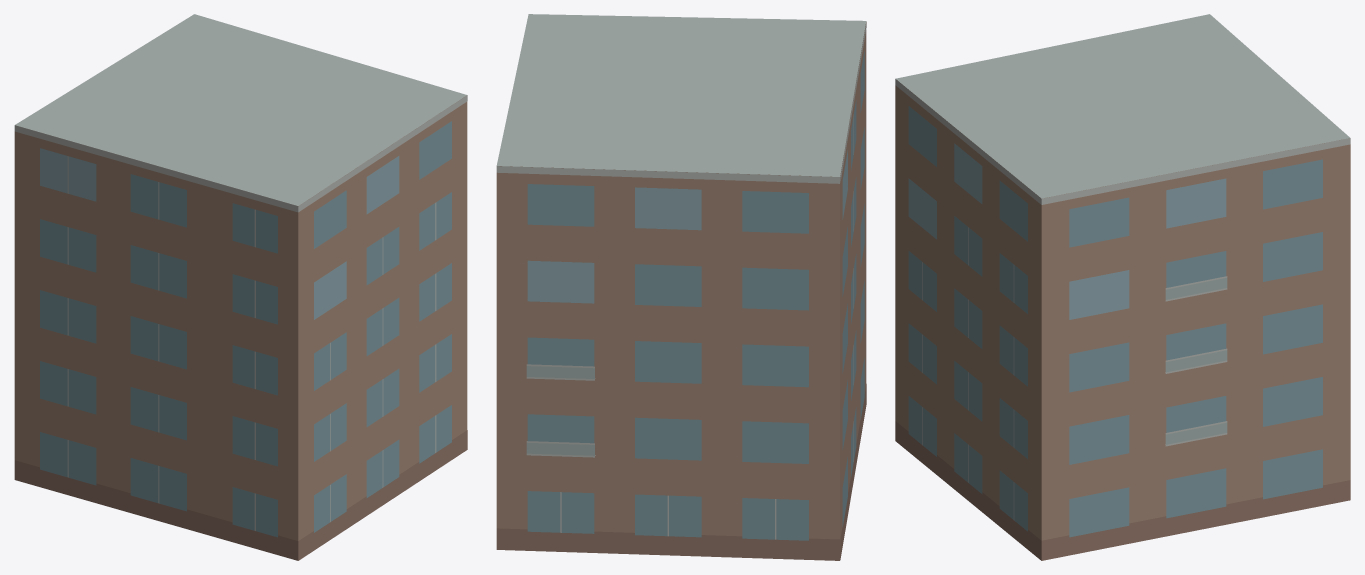
The model's file is survey-upis-32650671.glb.
3 views of the same model, side by side, from view 1: azimuth 30°, elevation 25°; view 2: azimuth 150°, elevation 25°; view 3: azimuth 270°, elevation 25° (orthographic). The views are drawn at different scales.
Parts seen in each view (by area): view 1: survey-upis-32650671.tmp; view 2: survey-upis-32650671.tmp; view 3: survey-upis-32650671.tmp.
Boxes of the visible parts, x1=… form: survey-upis-32650671.tmp: x1=14, y1=14, x2=467, y2=560; survey-upis-32650671.tmp: x1=496, y1=14, x2=866, y2=560; survey-upis-32650671.tmp: x1=895, y1=14, x2=1350, y2=560.
Size of the model in its own units: 14.98 by 13.7 by 15.61.
